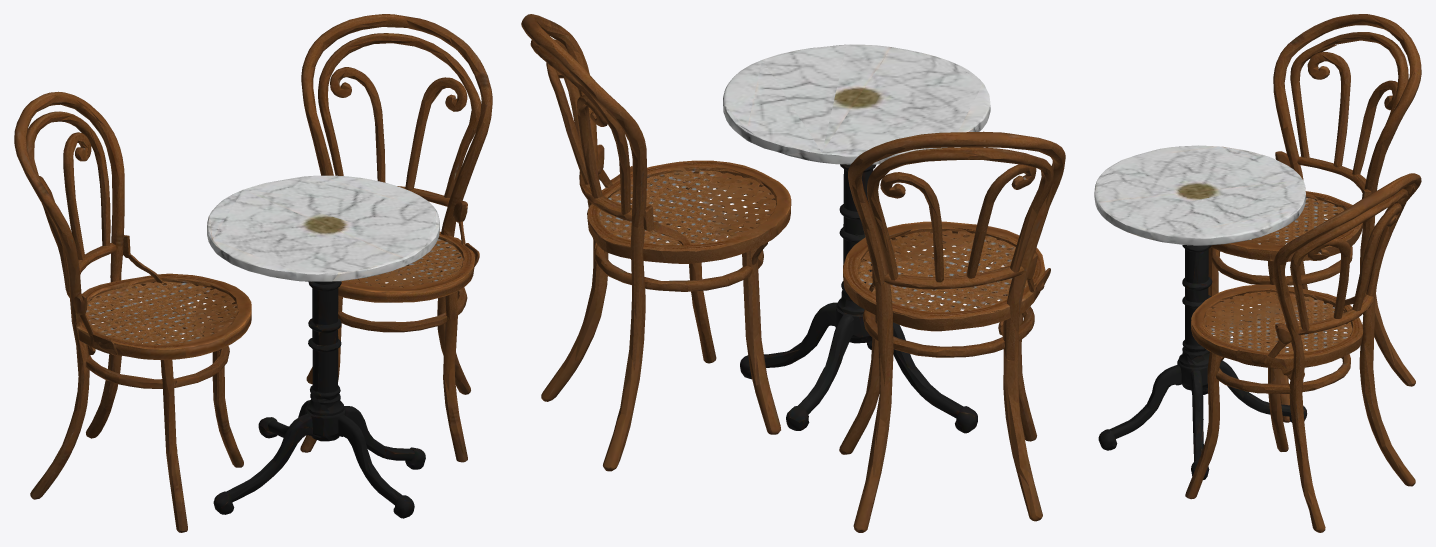
File: bistro_set.glb
3 views of the same model, side by side, from view 1: azimuth 30°, elevation 25°; view 2: azimuth 150°, elevation 25°; view 3: azimuth 270°, elevation 25° (orthographic). The views are drawn at different scales.
Bounding box in the file's own units: 1.9 × 1.44 × 1.28.
Materials: 1 (1 with a texture image).
